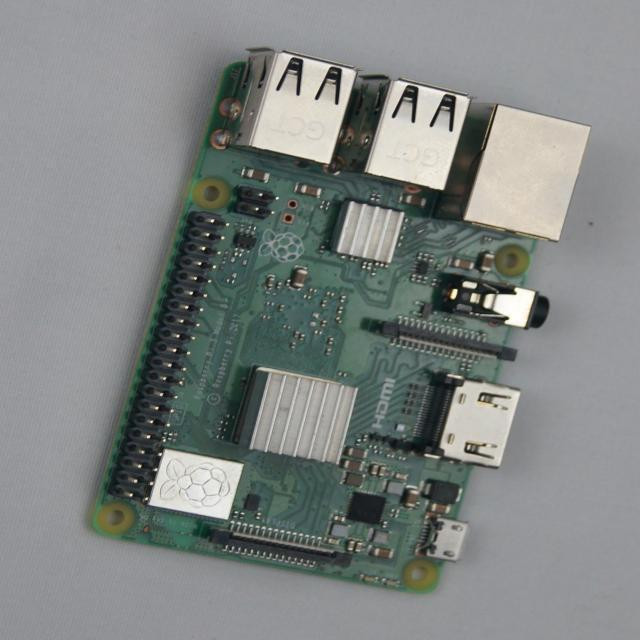Raspberry Pi 3 B-: (94, 49, 590, 592)
